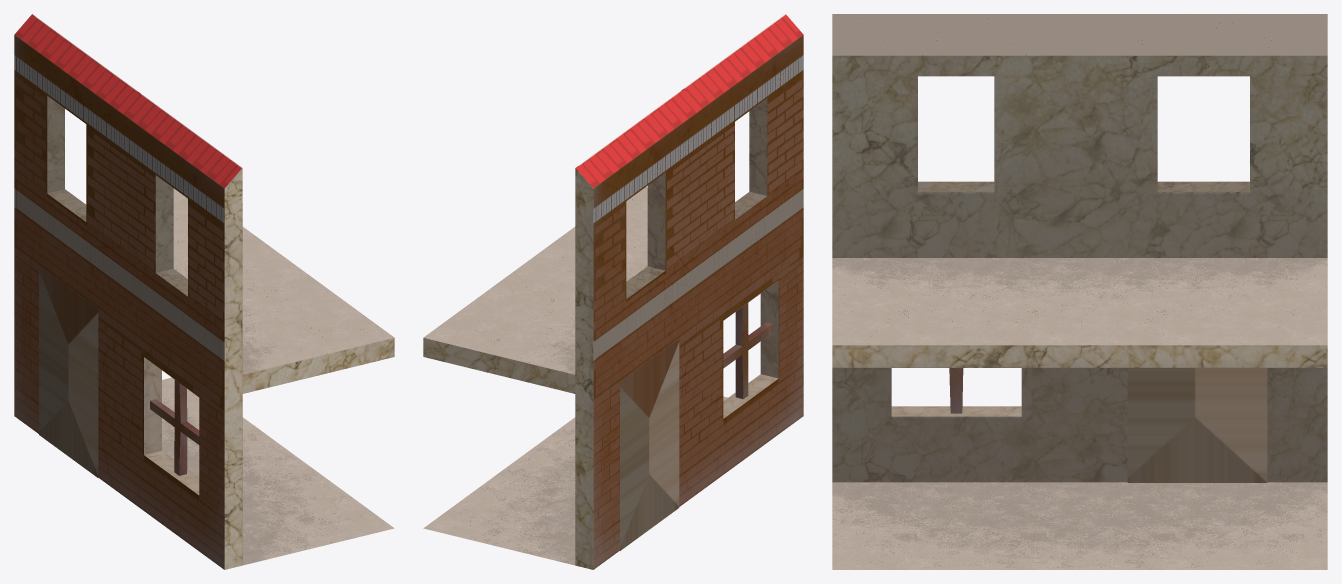
The model's file is WALL+DOOR.fbx.
3 renders of one model, left to right at view 1: azimuth 30°, elevation 25°; view 2: azimuth 150°, elevation 25°; view 3: azimuth 270°, elevation 25°, orthographic. The views are drawn at different scales.
Parts seen in each view (by area): view 1: Plane.004; view 2: Plane.004; view 3: Plane.004.
Part boxes in pixels (x1,y1,x2,y2): Plane.004: (14, 14, 394, 569); Plane.004: (423, 14, 803, 569); Plane.004: (832, 14, 1327, 569).
Bounding box in the file's own units: 188 × 417 × 400.
